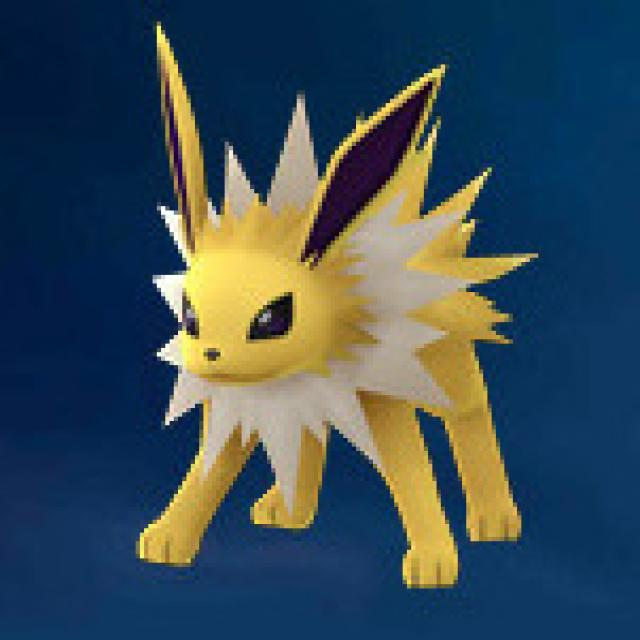Jolteon: (121, 15, 532, 567)
